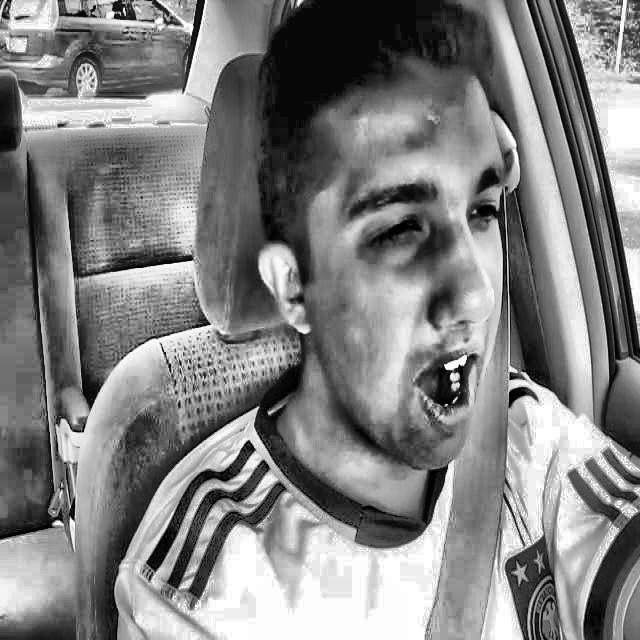open_mouth: (395, 330, 503, 452)
